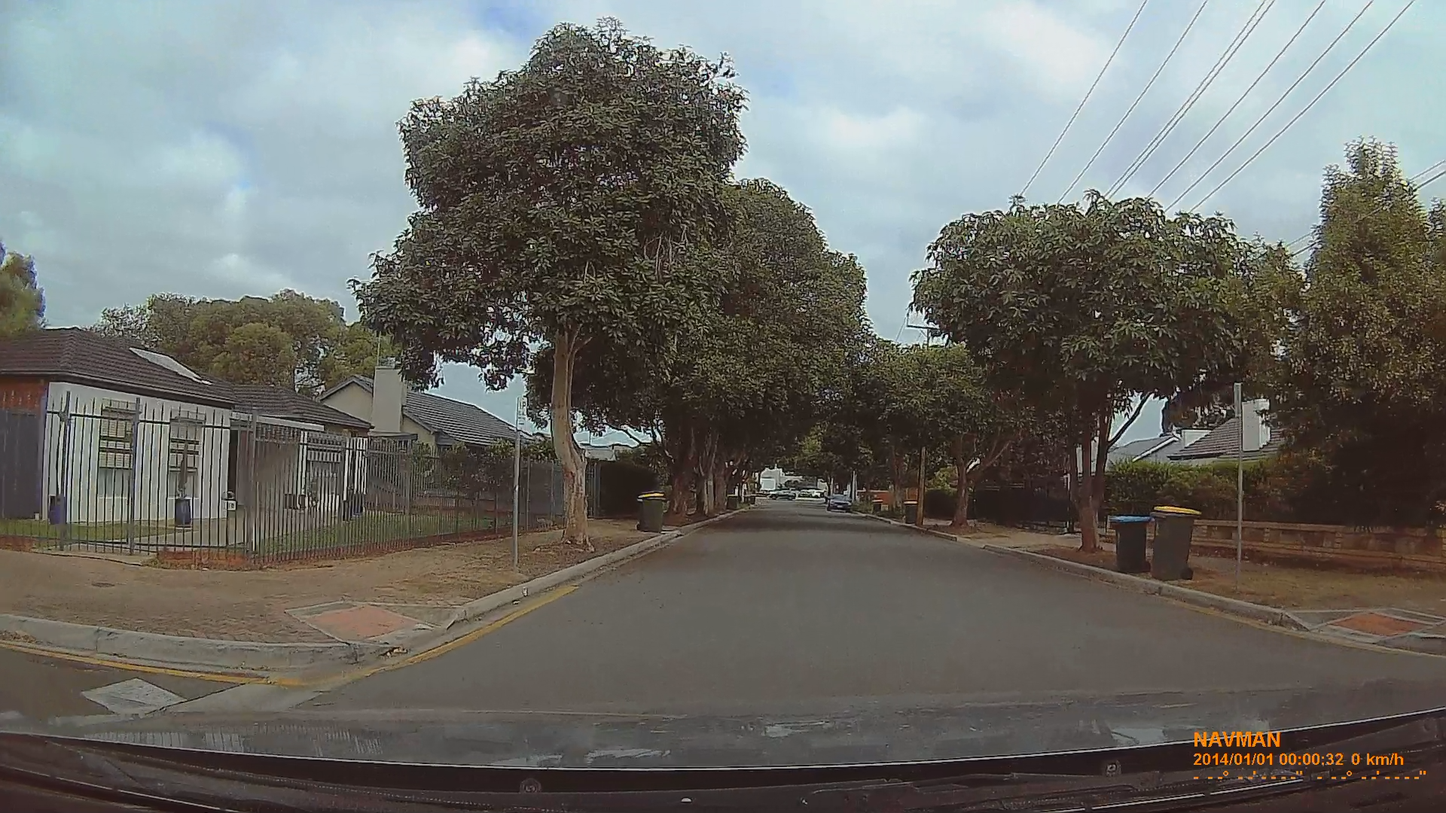fences: (0, 424, 514, 561), (1243, 521, 1445, 571)
